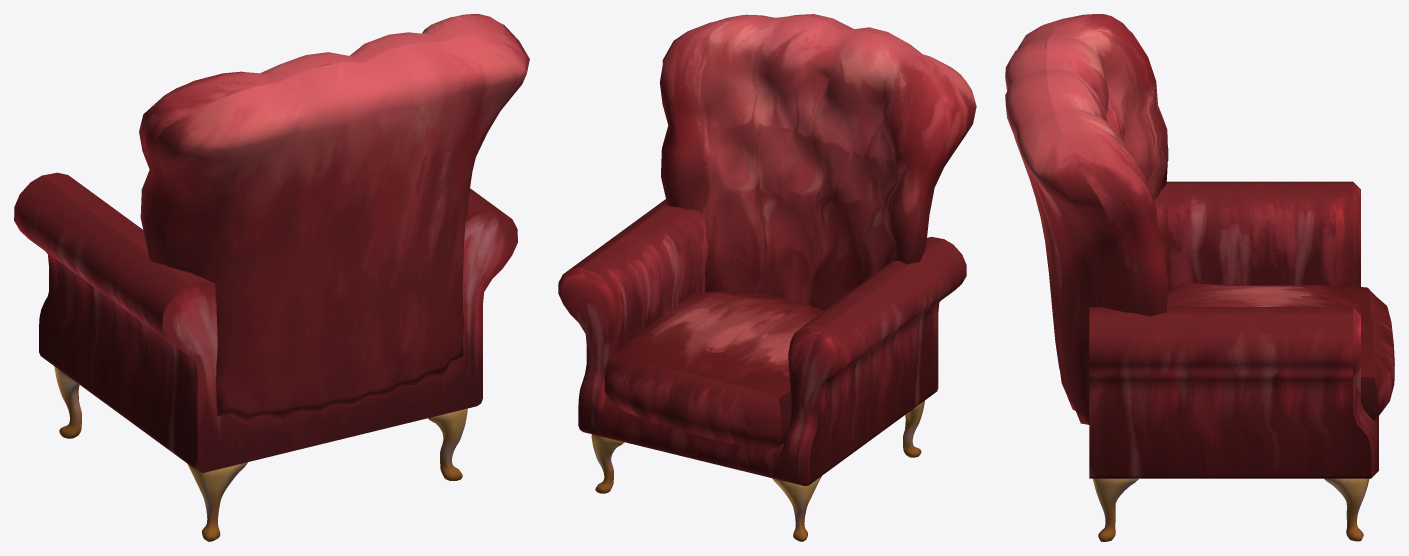
Rendered from Armchair_textured.fbx.
3 renders of one model, left to right at view 1: azimuth 30°, elevation 25°; view 2: azimuth 150°, elevation 25°; view 3: azimuth 270°, elevation 25°, orthographic. The views are drawn at different scales.
Visible parts, largest first — view 1: Armrests_low; view 2: Armrests_low; view 3: Armrests_low.
Boxes of the visible parts, x1=… form: Armrests_low: x1=14, y1=14, x2=529, y2=541; Armrests_low: x1=558, y1=14, x2=976, y2=541; Armrests_low: x1=1005, y1=14, x2=1394, y2=541.
Size of the model in its own units: 106 by 135 by 111.
1 material, 1 textured.
